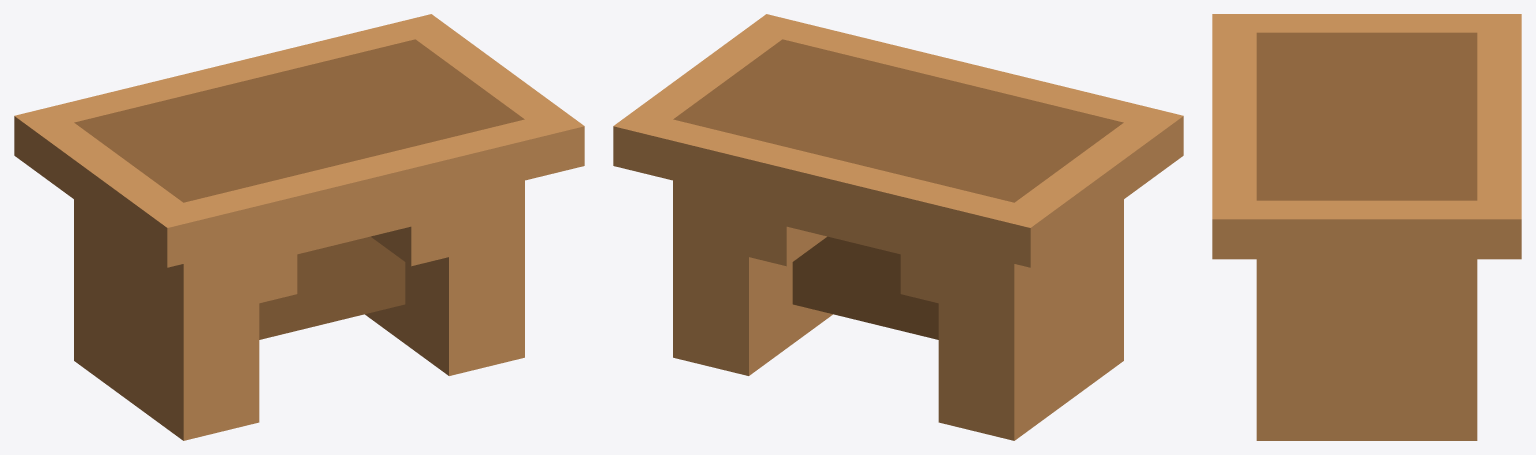
File: CraftingTable.obj
3 renders of one model, left to right at view 1: azimuth 30°, elevation 25°; view 2: azimuth 150°, elevation 25°; view 3: azimuth 270°, elevation 25°, orthographic.
Size of the model in its own units: 1.1 by 0.6 by 0.7.
Materials: 1 (1 with a texture image).
